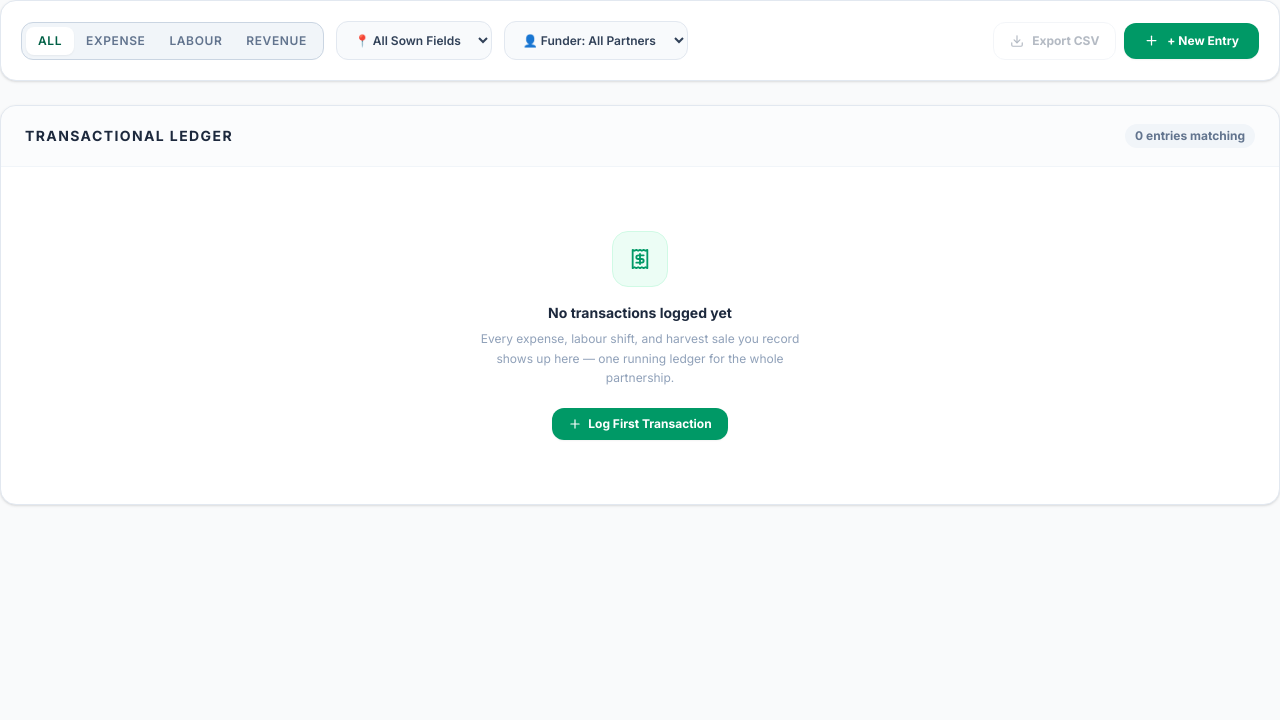
Test case: MoneyTab - Add Expense crop-cycle default › shows a success toast instead of just closing the dialog silently
Click the button "+ New Entry".
click(1192, 40)  # box [1124,22,1259,58]
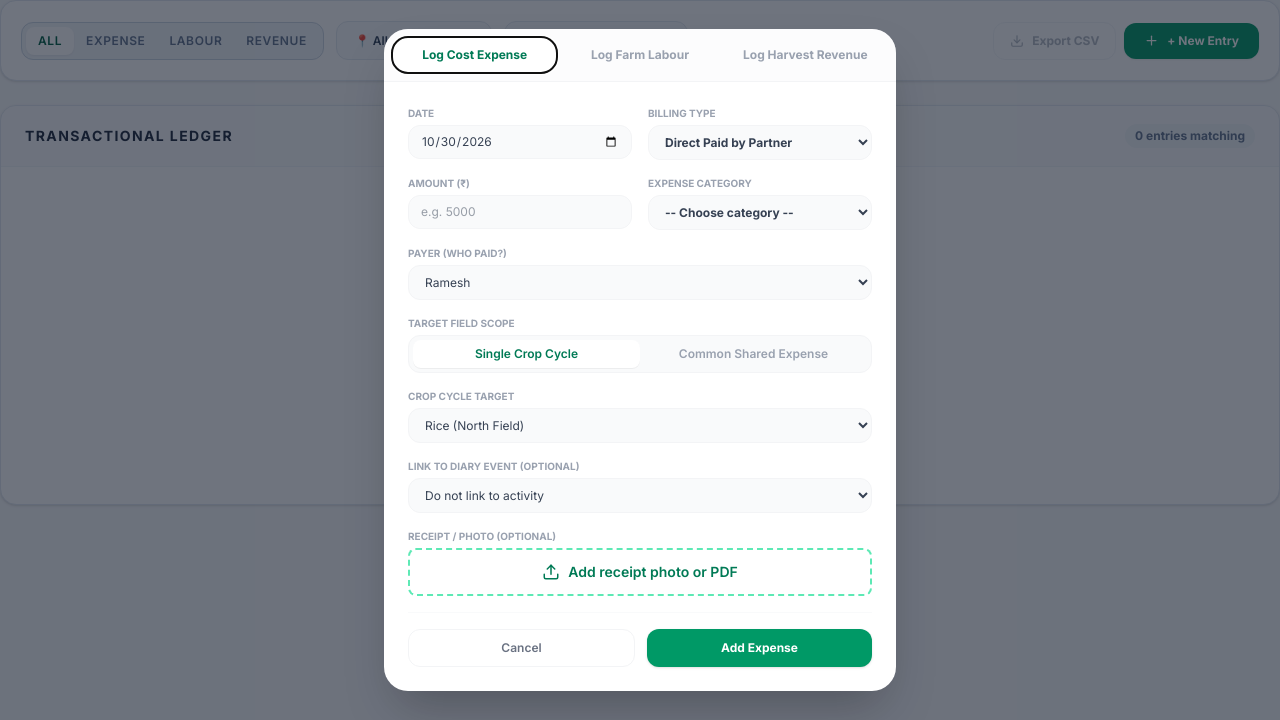
Type "500" into the number field with placeholder "e.g. 5000".
click(520, 212); type("500")  # box [408,195,632,229]
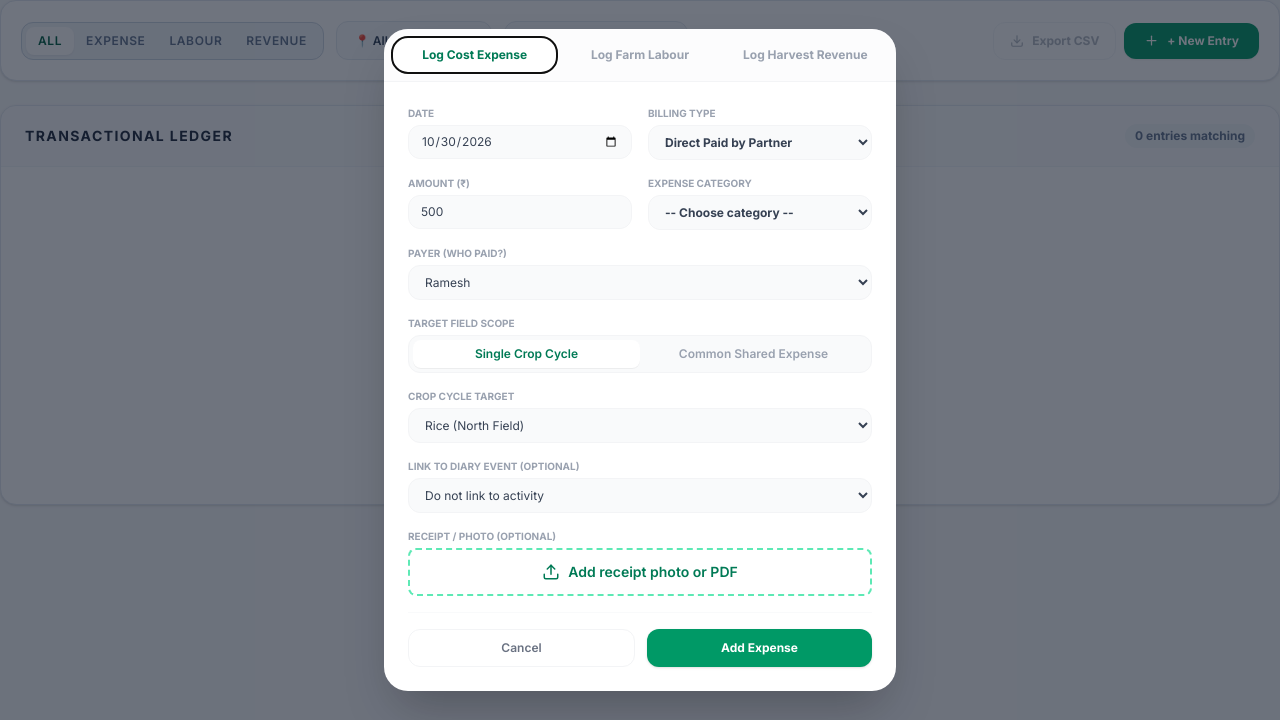
Select "Other (type below)" in the dropdown showing "-- Choose category --" below "Expense category" at (760, 212), box [648,195,872,230]
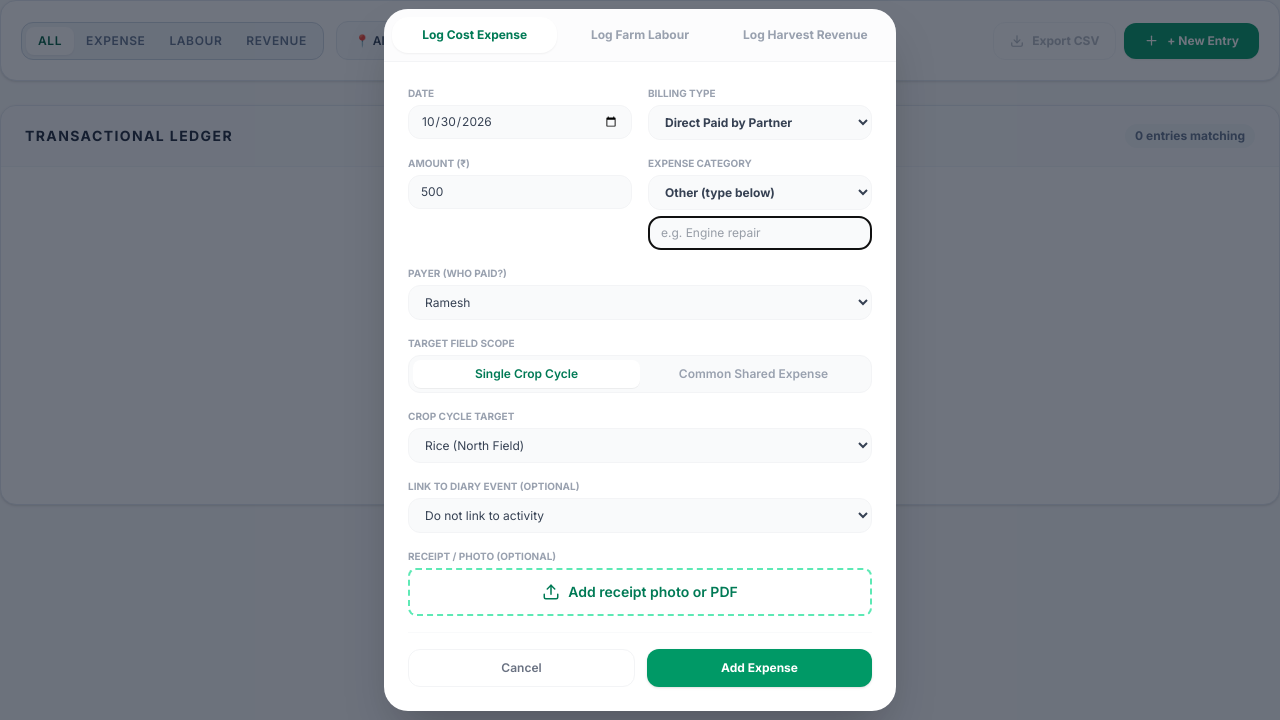
Type "Seeds" into the field with placeholder "e.g. Engine repair".
click(760, 233); type("Seeds")  # box [648,216,872,250]
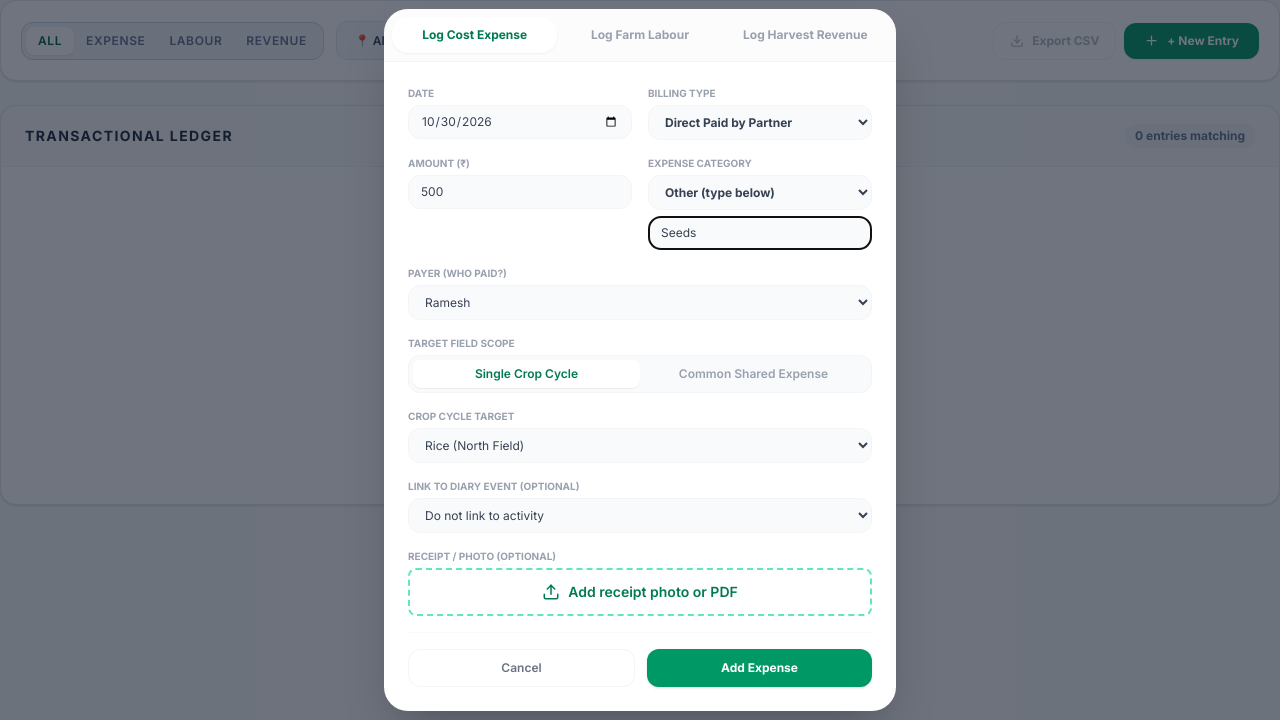
Submit the form with placeholder "e.g. 5000", box [384,62,896,711]
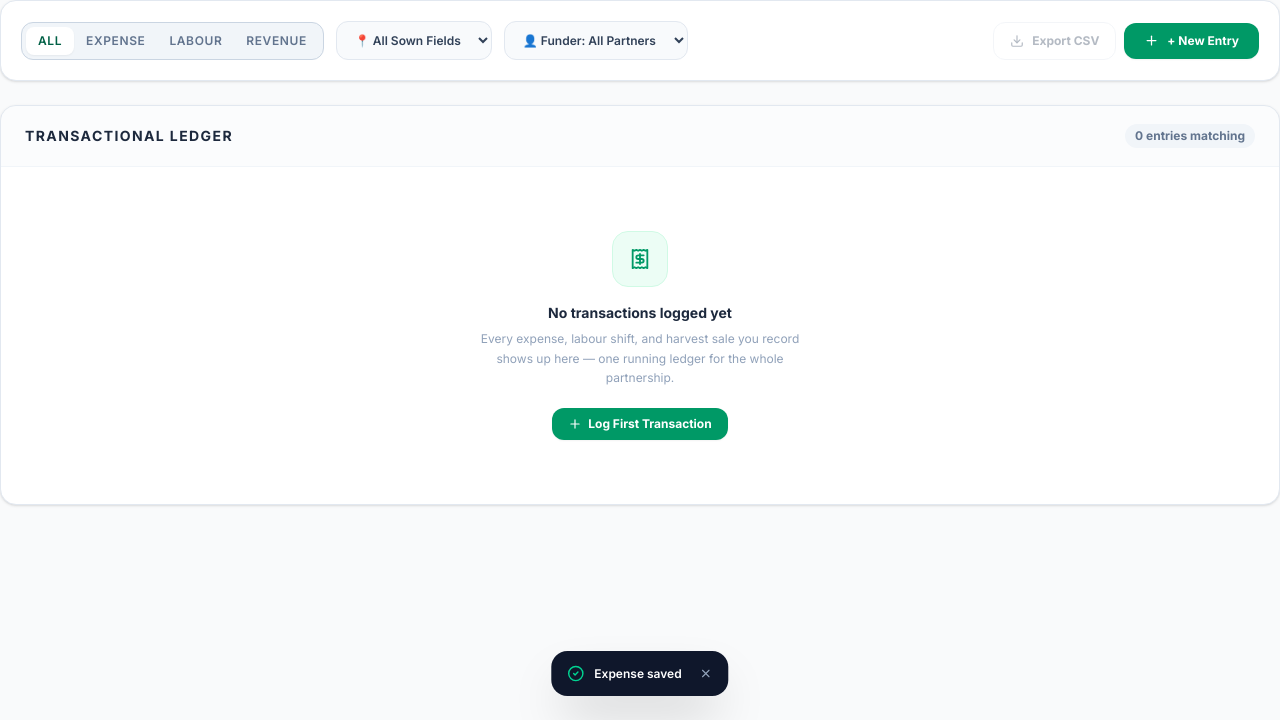
Check: the text "Expense saved" is shown, box [594,666,682,682]
